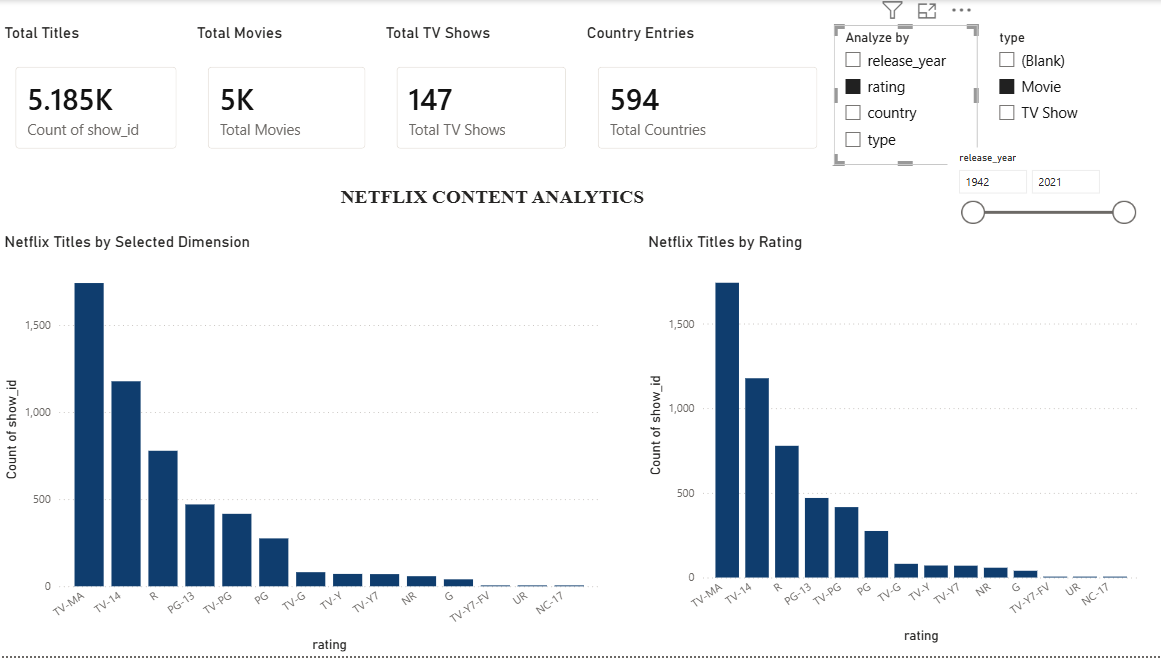

Layout of this report page (visuals, bound fields, positions):
{"tool":"powerbi","page":{"name":"Page 1","canvas":[1280,720],"ordinal":0},"visuals":[{"type":"slicer","fields":{"Values":["netflix_titles (3).type"]},"box":[1084.1,27.4,149.6,134.5],"z":0},{"type":"slicer","fields":{"Values":["Analyze by .Analyze by "]},"box":[915.3,27.4,157.8,153.7],"z":1000},{"type":"clusteredColumnChart","title":"Netflix Titles by Selected Dimension","fields":{"Category":["netflix_titles (3).release_year"],"Y":["CountNonNull(netflix_titles (3).show_id)"]},"box":[0,255.2,662.8,465.2],"z":2000},{"type":"cardVisual","title":"Total Titles ","fields":{"Data":["Count(netflix_titles (3).show_id)"]},"box":[0,26.1,211.3,155.1],"z":3000},{"type":"cardVisual","title":"Total Movies","fields":{"Data":["Analyze by .Total Movies"]},"box":[211.3,26.1,207.2,155.1],"z":4000},{"type":"cardVisual","title":"Total TV Shows","fields":{"Data":["Analyze by .Total TV Shows"]},"box":[418.5,26.1,220.9,155.1],"z":5000},{"type":"cardVisual","title":"Country Entries ","fields":{"Data":["Analyze by .Total Countries"]},"box":[639.5,26.1,275.8,155.1],"z":6000},{"type":"clusteredColumnChart","title":"Netflix Titles by Rating","fields":{"Category":["netflix_titles (3).rating"],"Y":["Count(netflix_titles (3).show_id)"]},"box":[706.7,255.2,548.9,455.6],"z":7000},{"type":"textbox","box":[100.2,199,881,41.2],"z":7001},{"type":"slicer","fields":{"Values":["netflix_titles (3).release_year"]},"box":[1040.1,161.9,215.4,98.8],"z":7002}]}

Visuals, with their boxes in screenshot pixels (x1, y1, x2, y2), scaled from the page's 1280x720 canvas onto the 1161x658 screenshot:
slicer - netflix_titles (3).type: <region>983, 25, 1119, 148</region>
slicer - Analyze by .Analyze by : <region>830, 25, 973, 166</region>
"Netflix Titles by Selected Dimension" clusteredColumnChart: <region>0, 233, 601, 657</region>
"Total Titles " cardVisual: <region>0, 24, 192, 166</region>
"Total Movies" cardVisual: <region>192, 24, 380, 166</region>
"Total TV Shows" cardVisual: <region>380, 24, 580, 166</region>
"Country Entries " cardVisual: <region>580, 24, 830, 166</region>
"Netflix Titles by Rating" clusteredColumnChart: <region>641, 233, 1139, 650</region>
textbox: <region>91, 182, 890, 220</region>
slicer - netflix_titles (3).release_year: <region>943, 148, 1139, 238</region>
